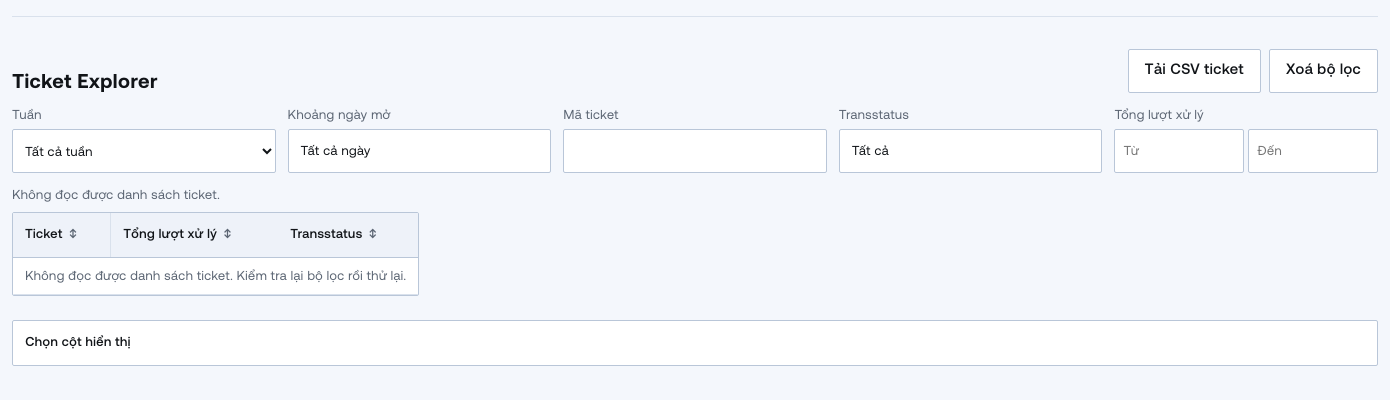
bulk export › reports a failed bulk export instead of downloading a partial file
The width and height of the screenshot is (1390, 400).
Click the button "Tải CSV ticket". click: click(1194, 71)
box: [1128, 49, 1261, 93]
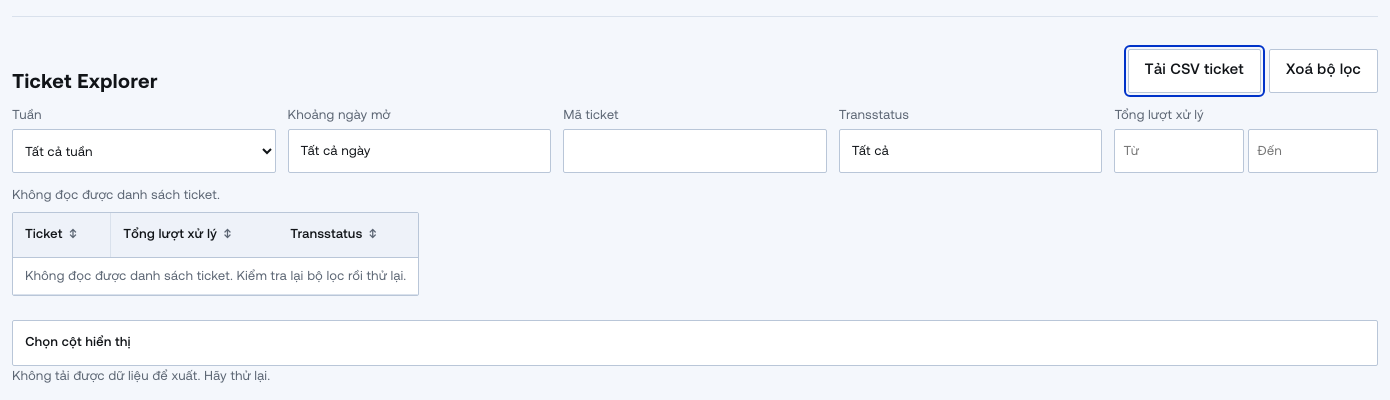
Check: the text "Không tải được dữ liệu để xuất. Hãy thử lại." is shown, box [12, 366, 270, 382]
